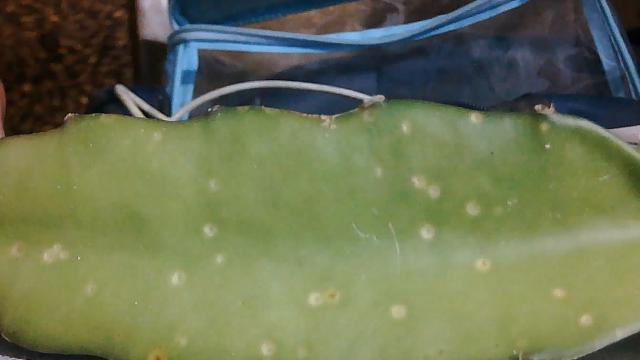stemcanker: (575, 309, 603, 336), (389, 300, 417, 327), (459, 197, 487, 224), (46, 238, 74, 265), (473, 252, 497, 277), (299, 286, 322, 311), (259, 336, 282, 360), (170, 266, 191, 292), (418, 219, 441, 242), (549, 280, 571, 302), (322, 285, 344, 306)
